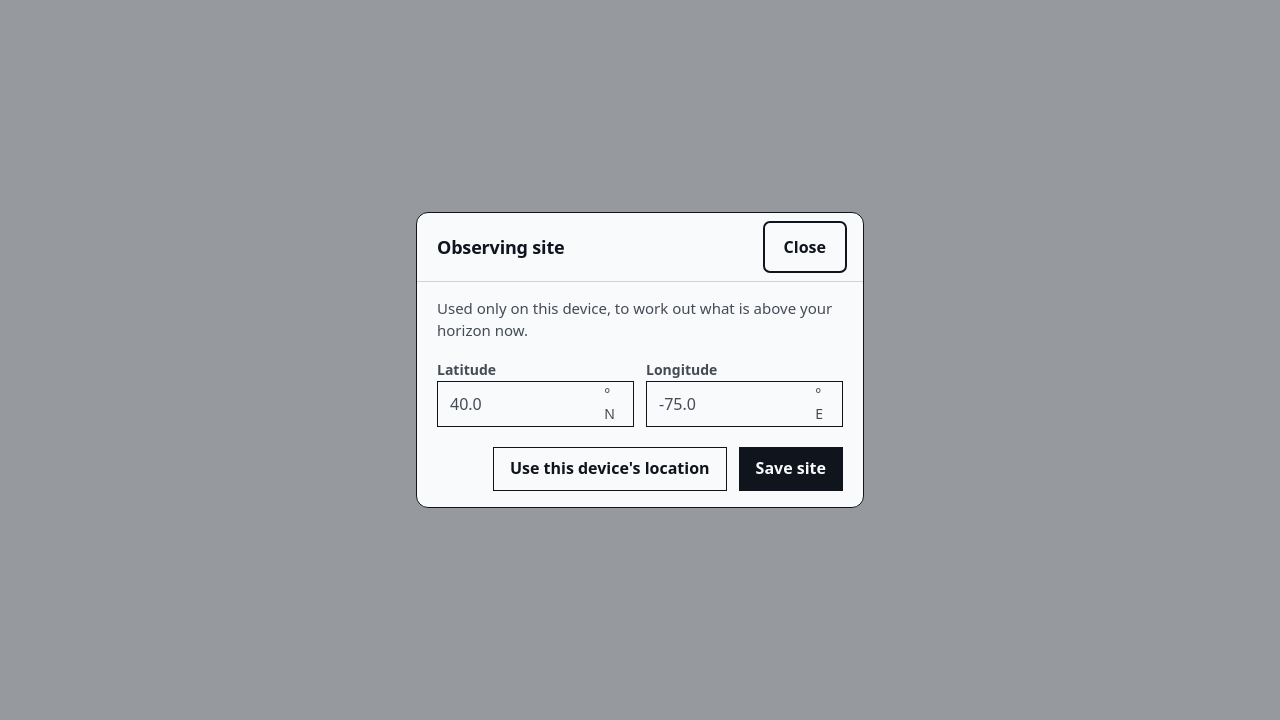
Scenario: the site dialog › refuses a place that is not on Earth, and says what is allowed
Type "95" into the field labelled "Latitude ° N" at (521, 404), box [438, 382, 604, 426]
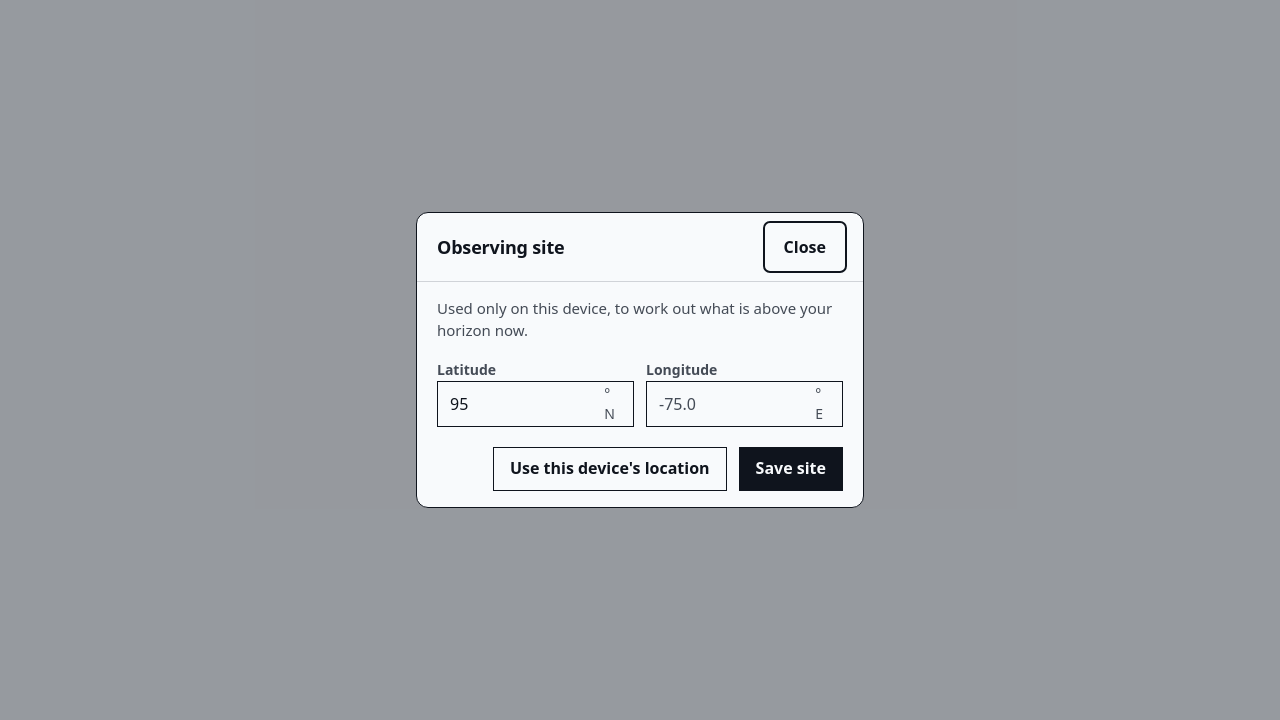
Type "0" into the field labelled "Longitude ° E" at (731, 404), box [647, 382, 815, 426]
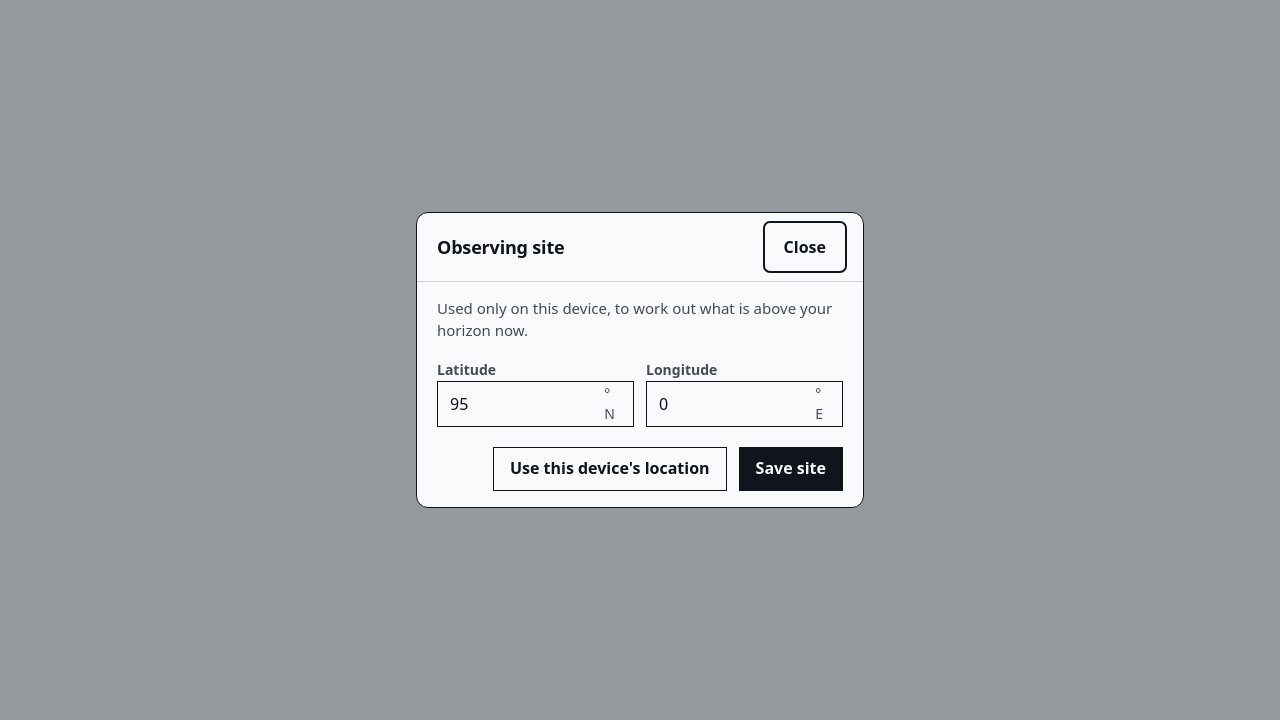
Click the button "Save site" at (791, 469), box [739, 447, 843, 491]
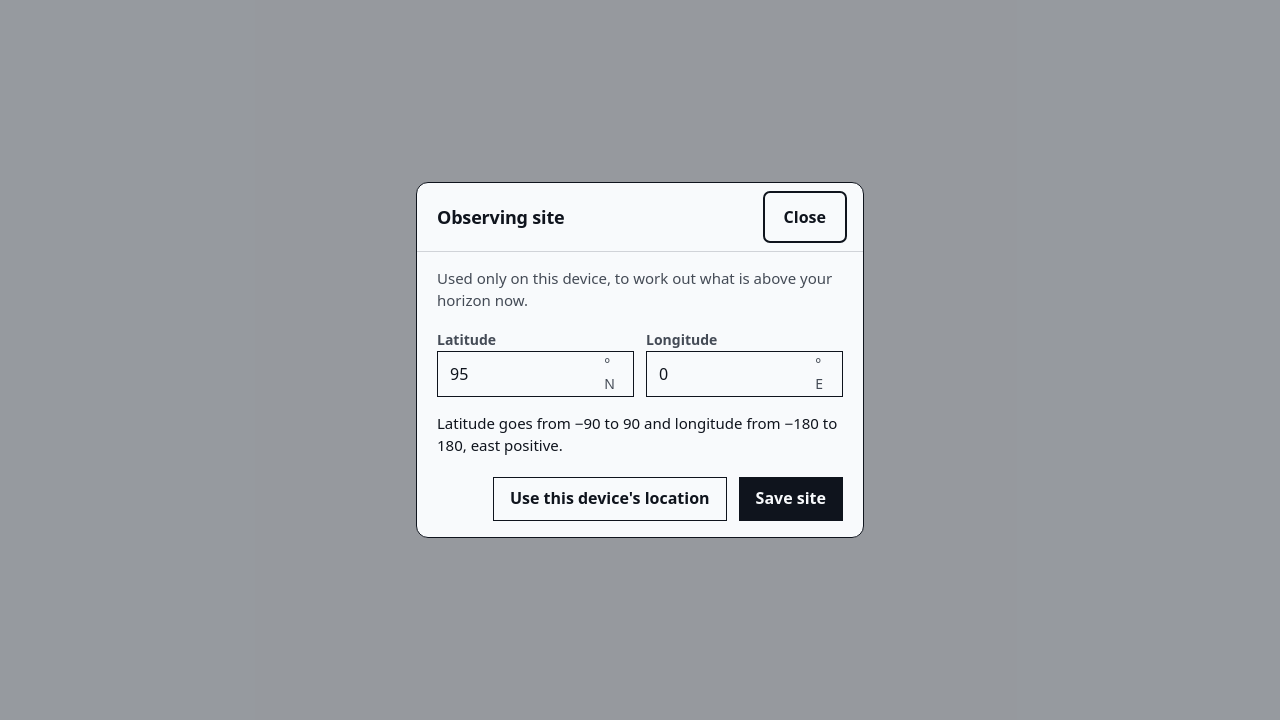
Now the message reads "Latitude goes from −90 to 90 and longitude from −180 to 180, east positive.", box [437, 413, 837, 455]
